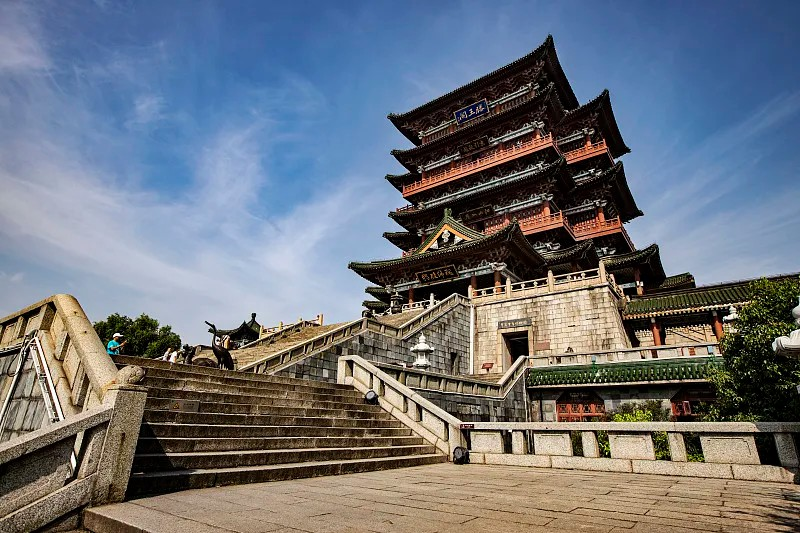Teng: (347, 36, 667, 299)
